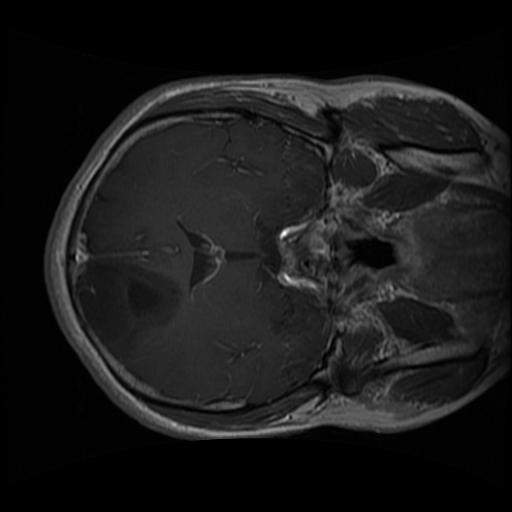glioma: (72, 260, 184, 344)
